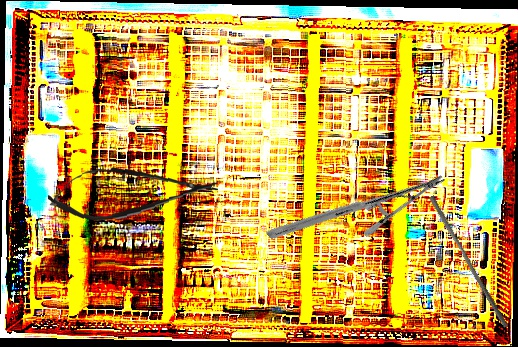Micro Scissor: (46, 159, 220, 225)
Needle Holder: (264, 114, 448, 300)
Pusher: (424, 194, 514, 329)
